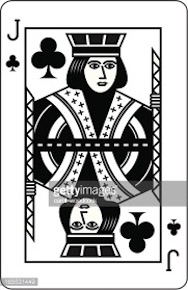JackOfClubs: (1, 1, 188, 288)
